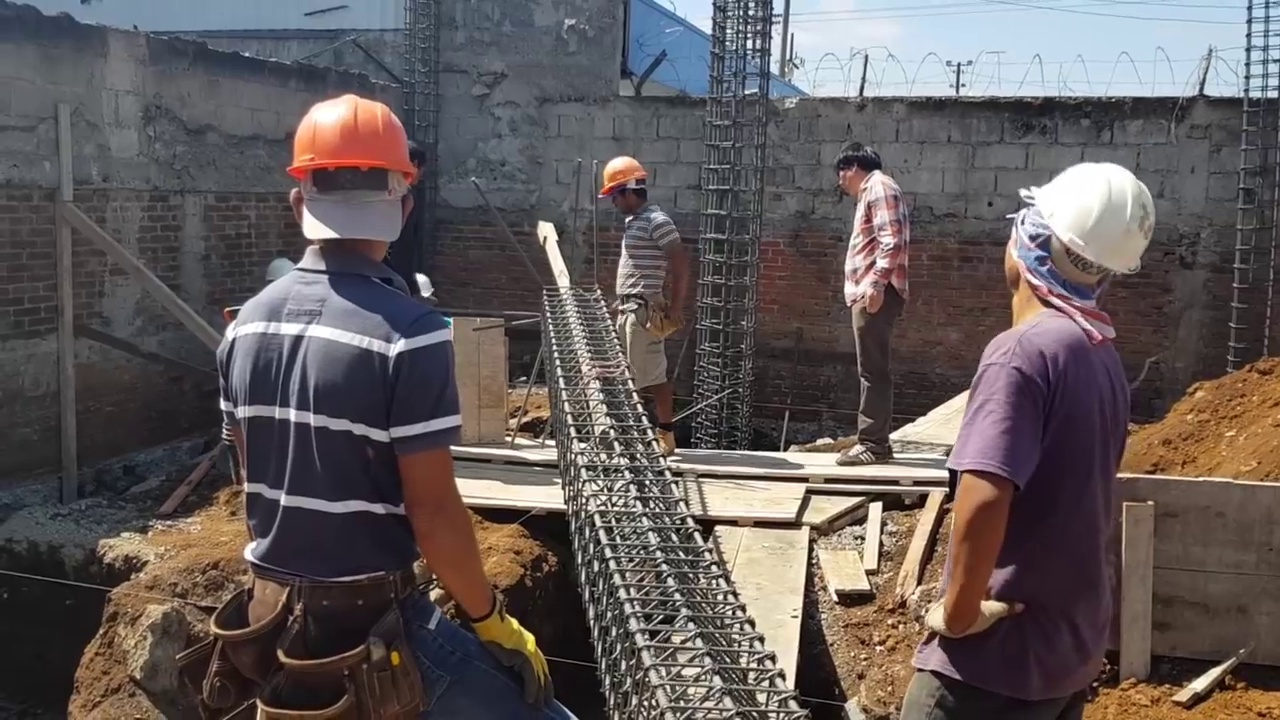helmet: (1031, 164, 1161, 285), (286, 91, 417, 187), (601, 157, 647, 200), (260, 256, 298, 284)
helmet-off: (836, 144, 885, 195)
helmet-on: (987, 148, 1167, 348), (284, 88, 423, 275), (600, 158, 653, 221)
person: (203, 69, 532, 720), (900, 155, 1177, 720), (595, 152, 691, 453), (831, 142, 915, 475)
